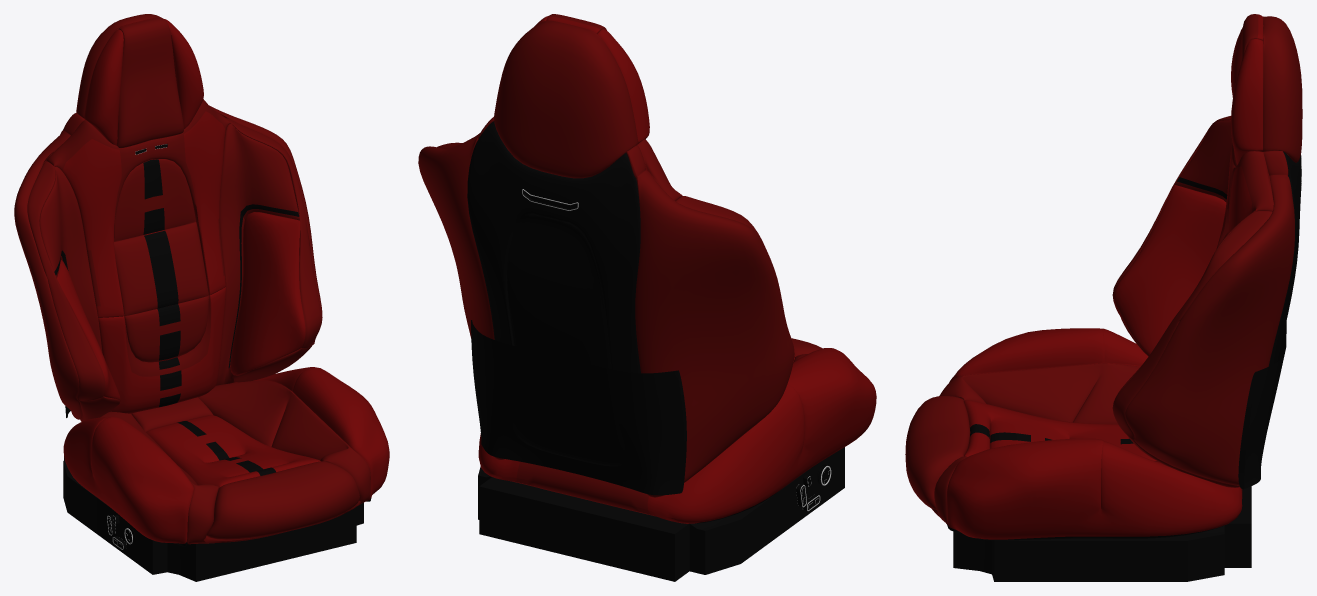
The picture shows the model from 3 angles, left to right: view 1: azimuth 30°, elevation 25°; view 2: azimuth 150°, elevation 25°; view 3: azimuth 270°, elevation 25°; orthographic projection. The views are drawn at different scales.
Parts seen in each view (by area): view 1: seay_backrest, SEat_base, Seat_frame; view 2: seay_backrest, Seat_pocket, SEat_base, Seat_frame; view 3: seay_backrest, SEat_base, Seat_frame, Seat_pocket.
Boxes of the visible parts, x1,y1,x2,y2 form: seay_backrest: (14, 14, 322, 421); SEat_base: (63, 367, 389, 546); Seat_frame: (63, 456, 363, 581); seay_backrest: (418, 14, 794, 497); Seat_pocket: (471, 320, 686, 495); SEat_base: (478, 338, 876, 523); Seat_frame: (478, 447, 844, 581); seay_backrest: (1112, 14, 1302, 487); SEat_base: (905, 328, 1242, 540); Seat_frame: (953, 486, 1251, 581); Seat_pocket: (1238, 321, 1286, 489).
Bounding box in the file's own units: 51.53 × 79.02 × 56.89.
